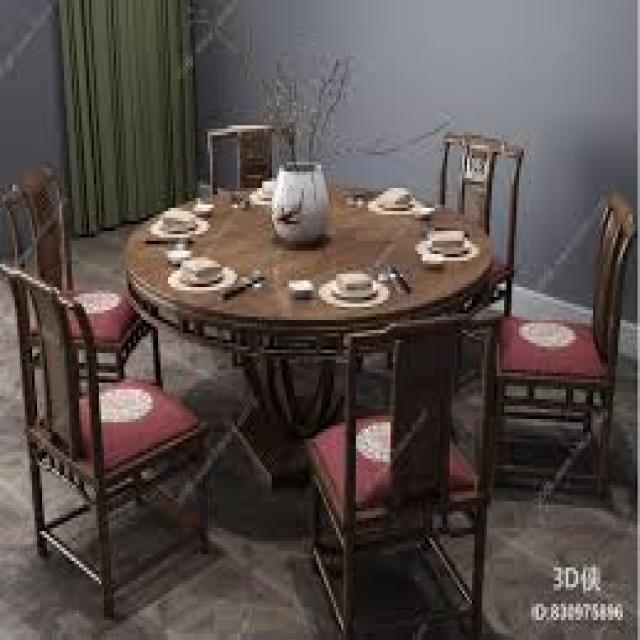table: (4, 108, 638, 634)
